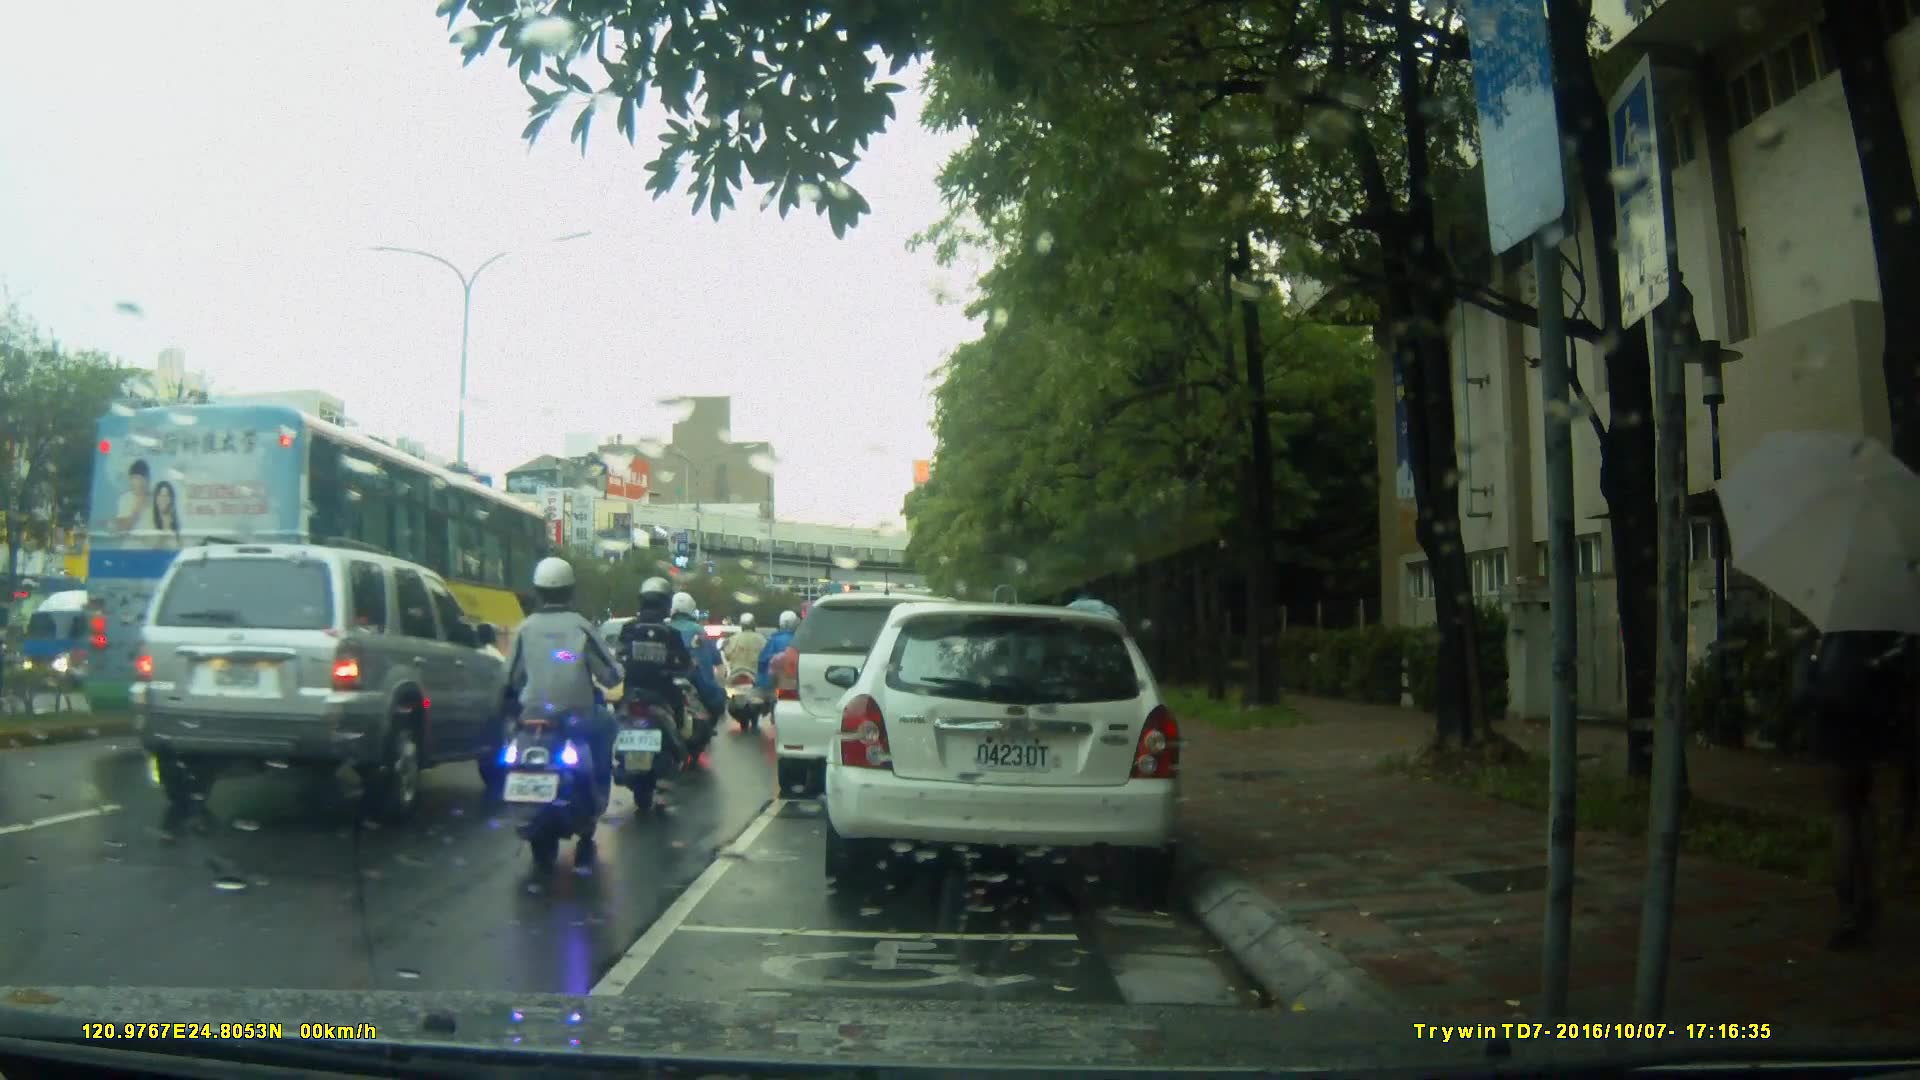pedestrian: (1767, 513, 1906, 943)
rider: (493, 554, 623, 866), (610, 573, 696, 812), (655, 589, 733, 760), (722, 610, 780, 732), (760, 612, 815, 727)
vehicle: (74, 402, 560, 752), (123, 537, 523, 822), (835, 594, 1194, 898), (776, 590, 1026, 784)
